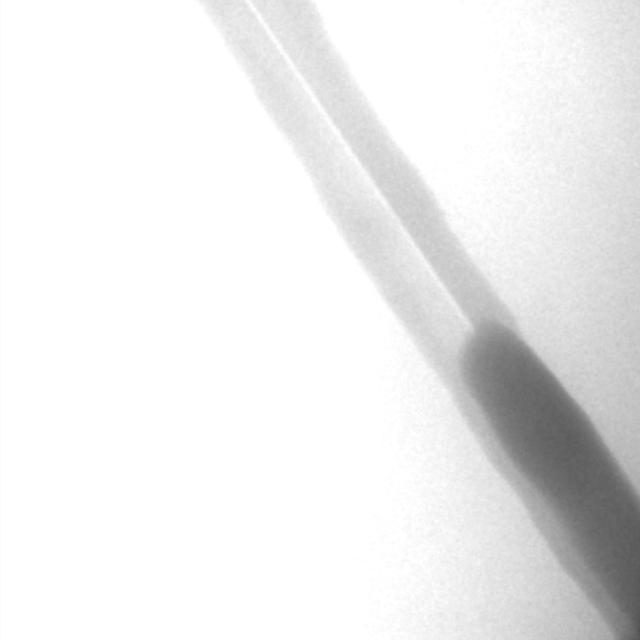broken arc: (250, 1, 472, 330)
